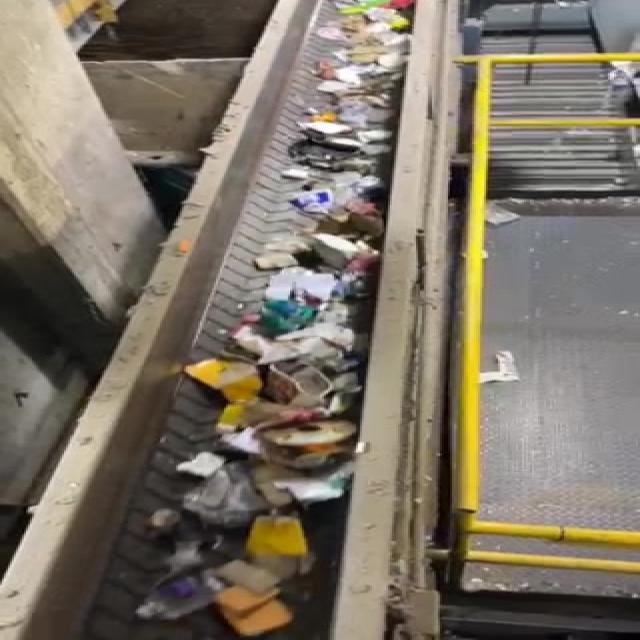paper: (237, 510, 328, 573), (210, 586, 310, 640), (188, 354, 275, 416)
